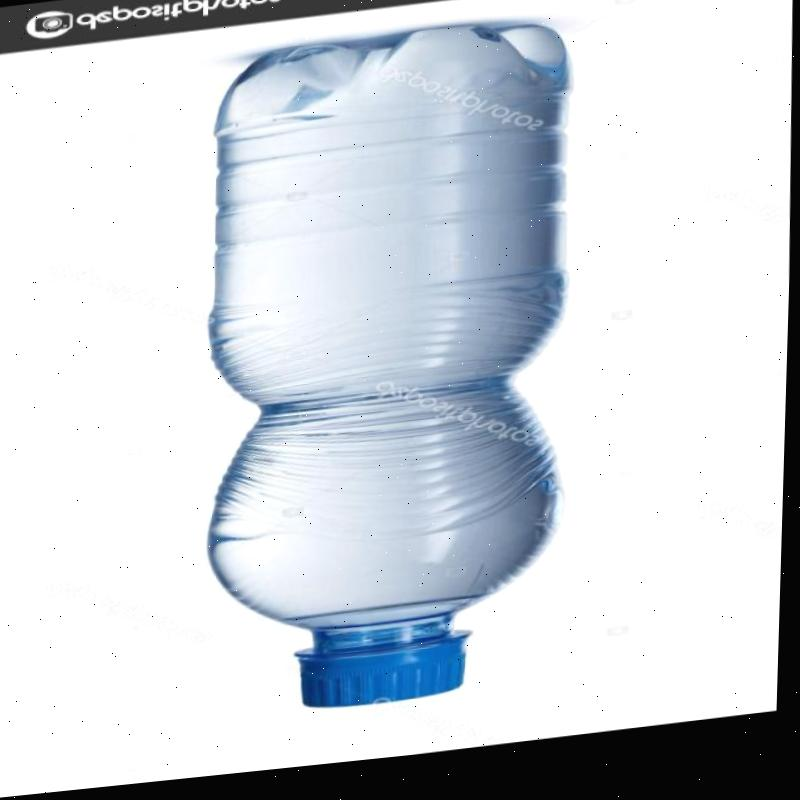botella: (187, 23, 585, 734)
